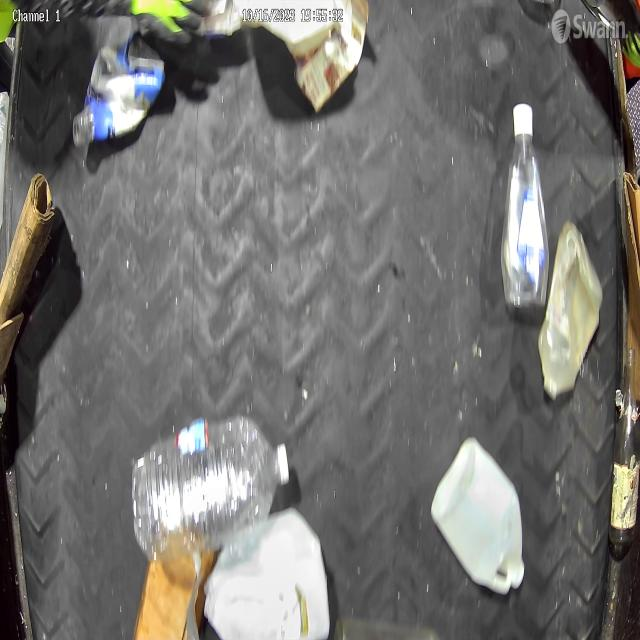milk_jug: (429, 434, 531, 607), (202, 505, 332, 640)
non_white_jug: (536, 214, 608, 401)
plastic_bottle: (132, 409, 290, 557)
